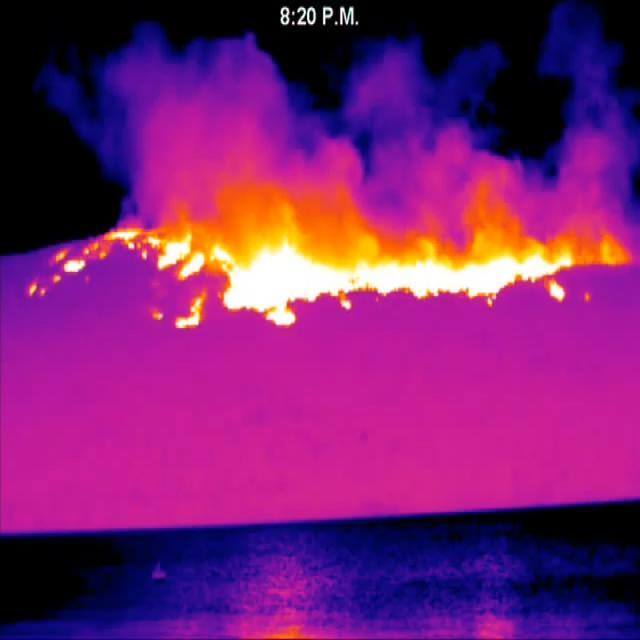fire: (27, 184, 631, 326)
